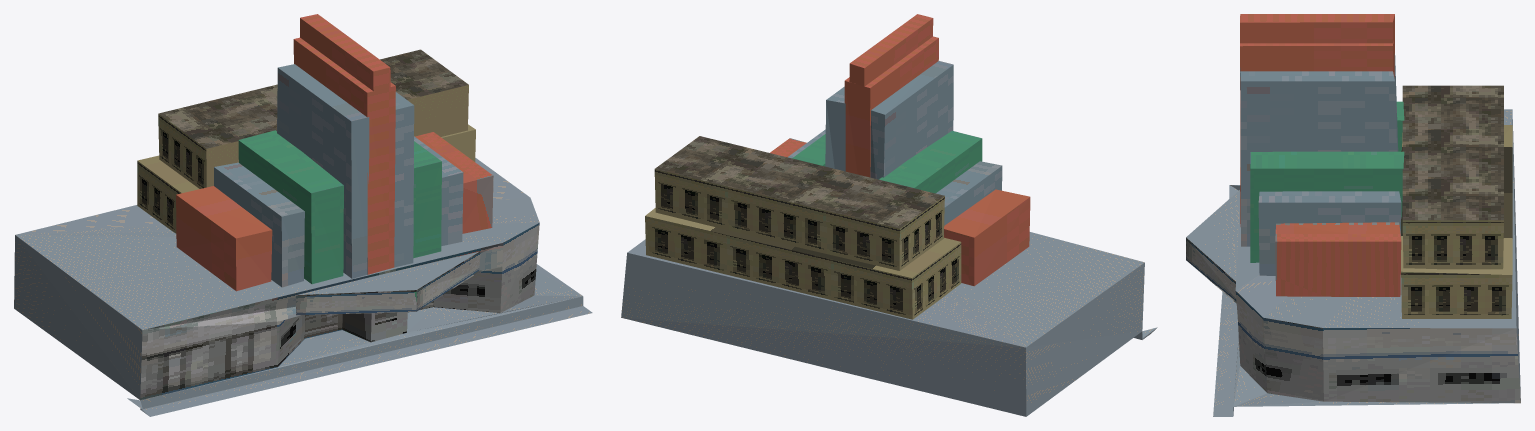
Rendered from lod1cineblock1_lae.obj.
The picture shows the model from 3 angles, left to right: view 1: azimuth 30°, elevation 25°; view 2: azimuth 150°, elevation 25°; view 3: azimuth 270°, elevation 25°; orthographic projection. The views are drawn at different scales.
Parts seen in each view (by area): view 1: LOD1cineblock1_LAe; view 2: LOD1cineblock1_LAe; view 3: LOD1cineblock1_LAe.
Boxes of the visible parts, bbox=[...] form: LOD1cineblock1_LAe: bbox=[14, 14, 592, 416]; LOD1cineblock1_LAe: bbox=[621, 14, 1157, 416]; LOD1cineblock1_LAe: bbox=[1186, 14, 1520, 416].
Bounding box in the file's own units: 37.92 × 23.46 × 23.66.
Materials: 3 (3 with a texture image).
